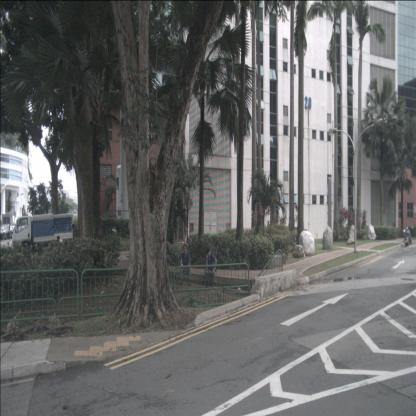human-pedestrian-adult: (204, 248, 217, 288), (180, 244, 192, 286), (56, 235, 64, 257)
vehicle-car: (0, 224, 14, 240)
vehicle-motorcycle: (404, 226, 412, 247), (1, 226, 7, 240)
vehicle-truck: (12, 212, 74, 259)
